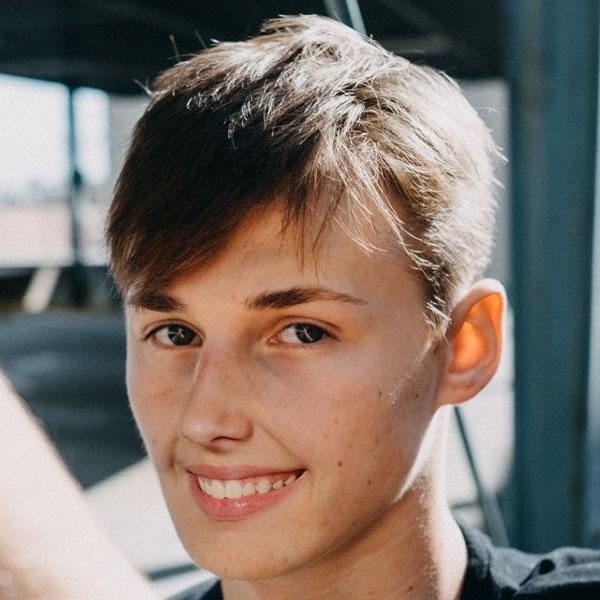Eyes: (255, 308, 355, 359), (135, 312, 214, 358)
